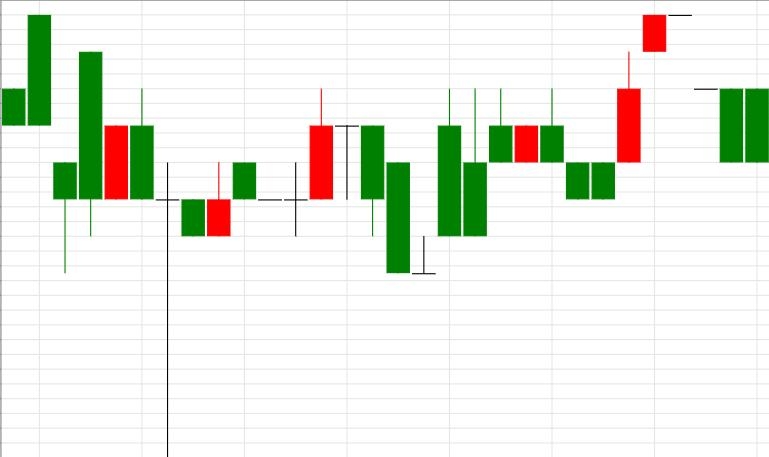evening_star_fall: (208, 89, 384, 237)
